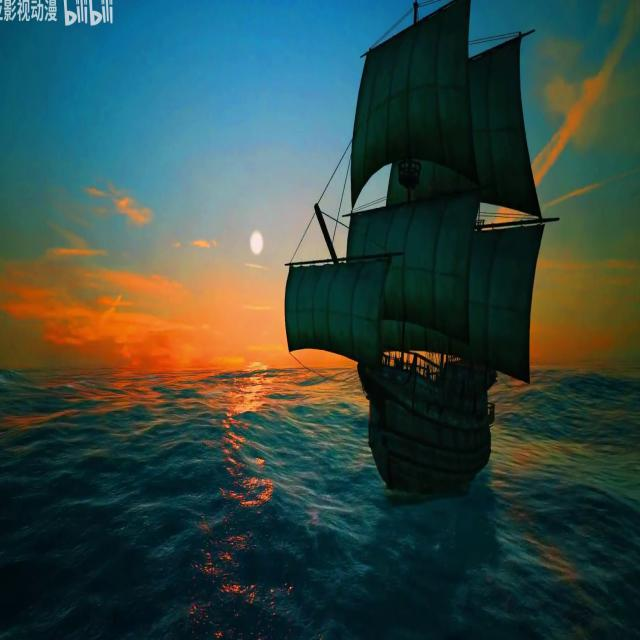sailboat: (275, 0, 541, 490)
